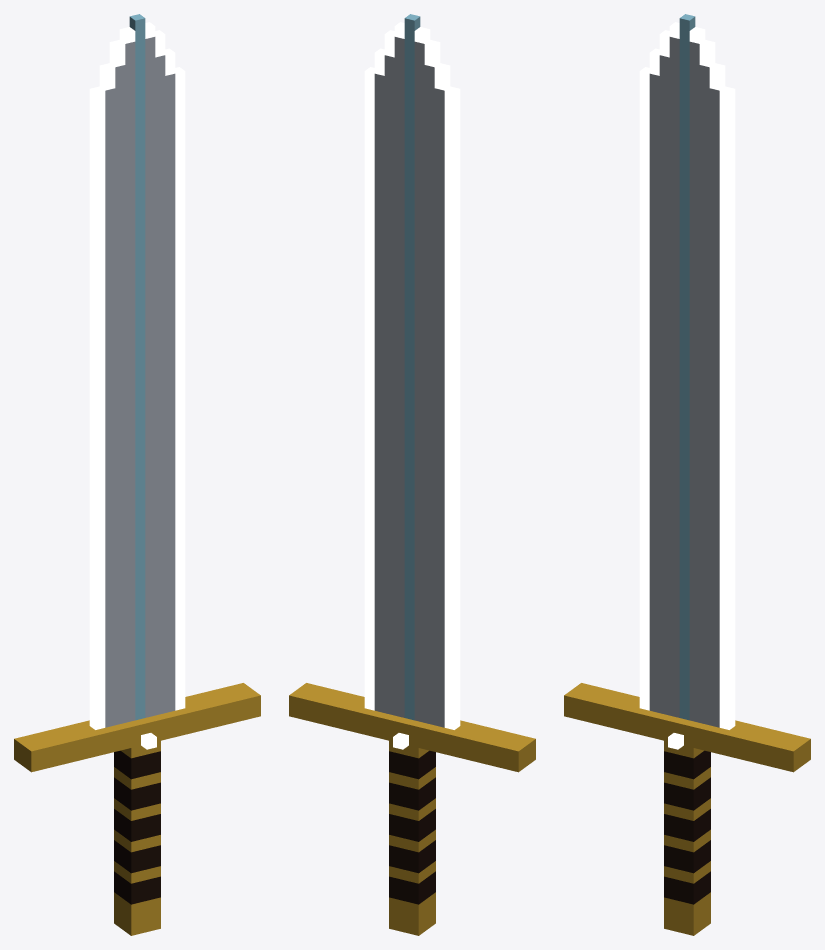
The model's file is rimeforged_zweihander.glb.
3 views of the same model, side by side, from view 1: azimuth 30°, elevation 25°; view 2: azimuth 150°, elevation 25°; view 3: azimuth 330°, elevation 25° (orthographic).
Visible parts, largest first — view 1: rimeforged_zweihander; view 2: rimeforged_zweihander; view 3: rimeforged_zweihander.
Part boxes in pixels (bbox=[...]): rimeforged_zweihander: bbox=[14, 14, 260, 935]; rimeforged_zweihander: bbox=[289, 14, 535, 935]; rimeforged_zweihander: bbox=[564, 14, 810, 935].
Size of the model in its own units: 0.345 by 1.3 by 0.075.
